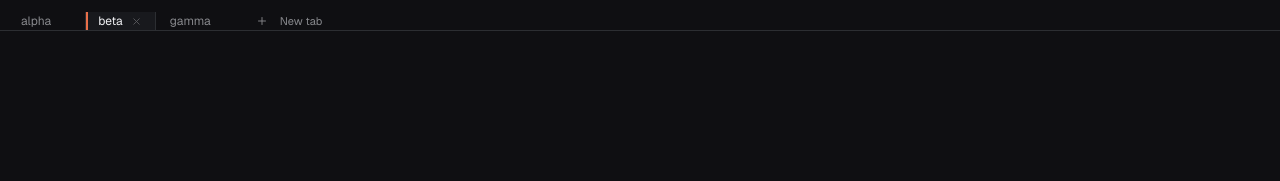
Test case: tab-menu › TabBar context menu integration › opens drop down menu on right-clicking the ribbon and clears tabs
The width and height of the screenshot is (1280, 181).
# Right-click the ribbon
Right-click the element with class "tabbar" at (640, 22), box [0,12,1279,31]
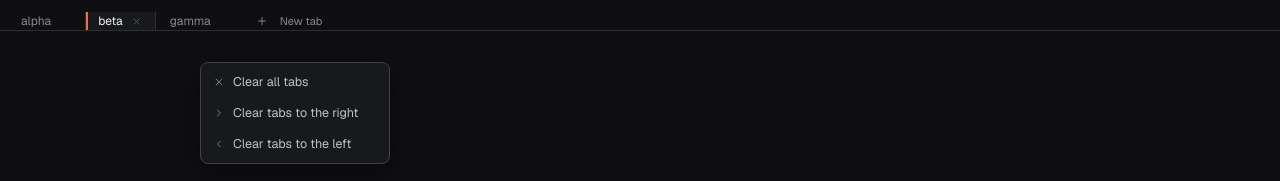
Expected: the menu is shown, [200,62,390,164]
# Click "Clear tabs to the right"
Click the menu item "Clear tabs to the right". click: (295, 113)
box: [205,98,385,129]
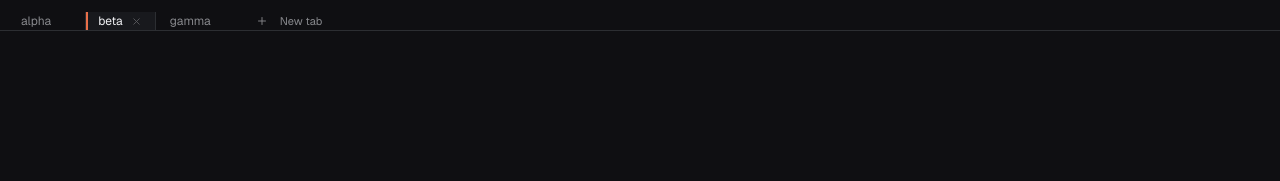
Expected: the menu is gone
